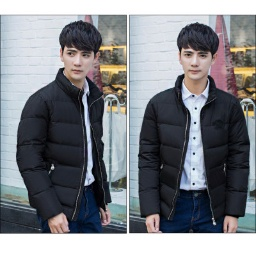face: (174, 21, 220, 82), (60, 21, 102, 81)
